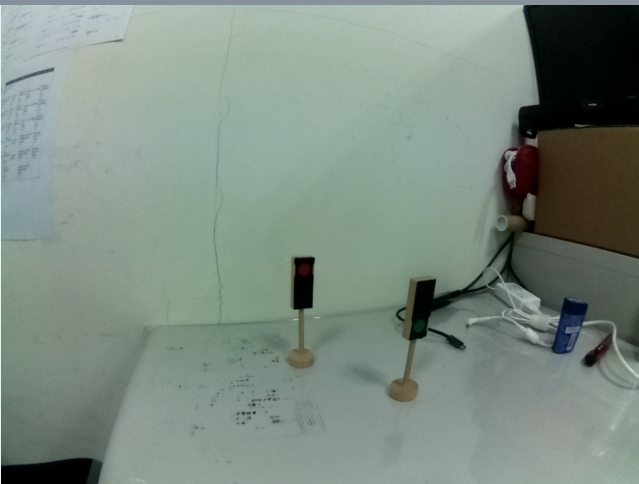Green: (402, 274, 436, 343)
Red: (283, 254, 320, 313)
